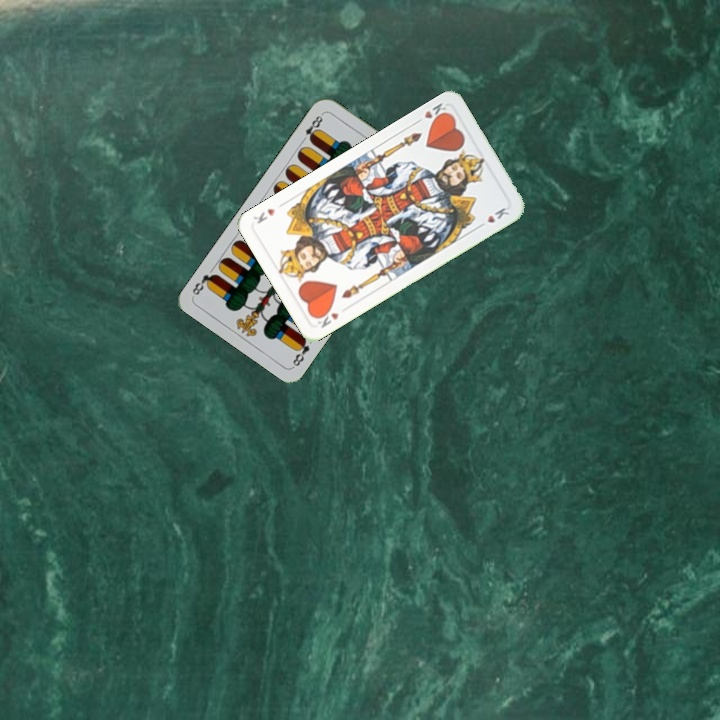E8: (298, 109, 326, 145), (288, 334, 312, 370)
HK: (411, 99, 451, 126), (310, 304, 342, 331)
